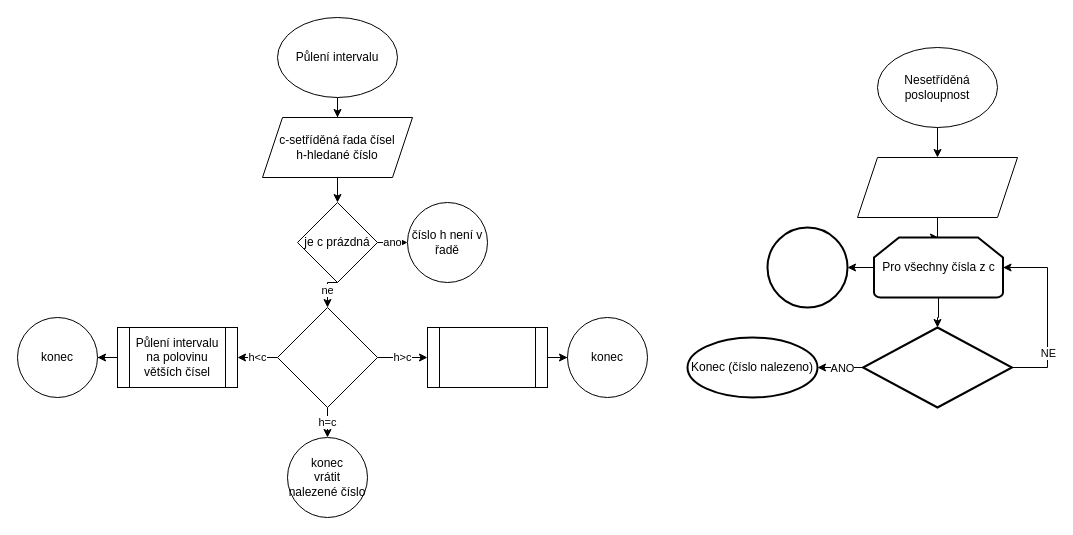
Some shapes in this 1073 by 535 pixel diagram are drawn without their labels. The shapes that lost their labels are listed below. From the top down, each one's centre as x and y in pixels, then its label:
At (937,187): "c-nesetříděná řada čísel h-hledané číslo".
At (807,267): "Číslo v poli c není".
At (327,357): "porovnat h s číslem uprostřed c".
At (487,357): "Půlení intervalu na polovinu menších čísel".
At (937,367): "Je číslo hledané číslo h".
